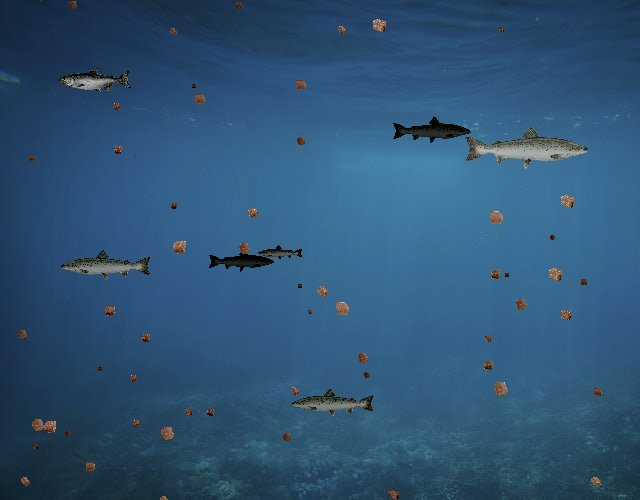Fish: (462, 124, 591, 170), (59, 249, 153, 283), (290, 387, 376, 418), (391, 115, 472, 144), (60, 67, 133, 94), (208, 248, 276, 273), (257, 244, 304, 261)
Pellet: (165, 234, 193, 262), (310, 280, 334, 304), (232, 236, 256, 260), (241, 201, 264, 224), (12, 324, 33, 345), (165, 23, 182, 40), (29, 441, 41, 453)
